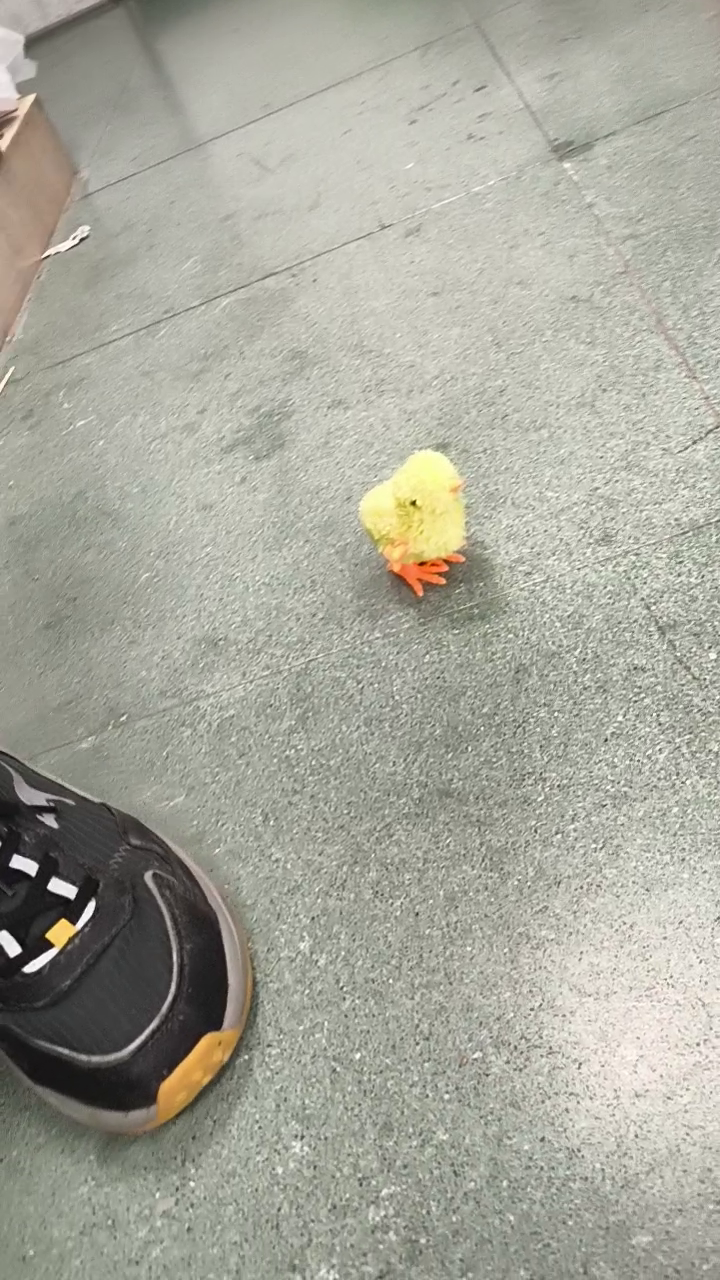yellow chicken: (356, 444, 472, 599)
